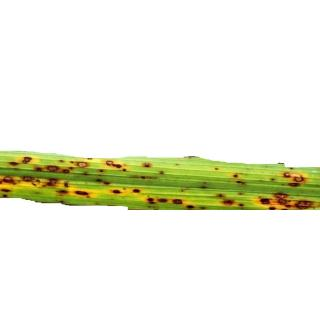bercak-Cokelat: (15, 155, 94, 177), (2, 174, 75, 190), (261, 192, 318, 212), (139, 193, 198, 210), (49, 188, 96, 202), (215, 192, 248, 210), (280, 172, 310, 188), (231, 168, 250, 190), (103, 158, 126, 173), (110, 187, 145, 196), (0, 188, 22, 197), (94, 177, 112, 187), (132, 173, 154, 181), (136, 162, 155, 170)
